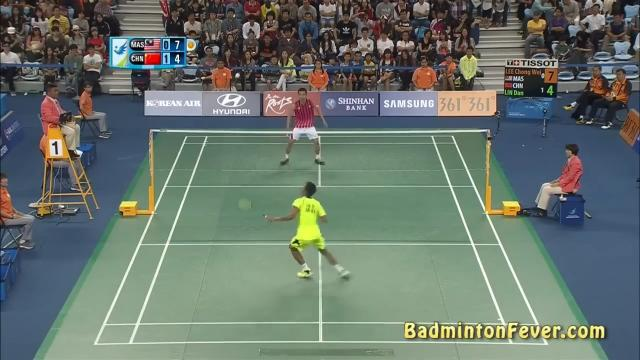Shuttlecock: (233, 73, 243, 81)
